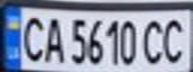0: (118, 16, 142, 66)
1: (103, 16, 121, 66)
5: (66, 15, 87, 65)
6: (84, 16, 106, 66)
A: (39, 13, 69, 64)
C: (157, 14, 193, 65), (15, 12, 48, 63), (139, 16, 172, 65)
